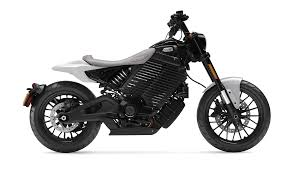motorcycle: (21, 8, 272, 157)
